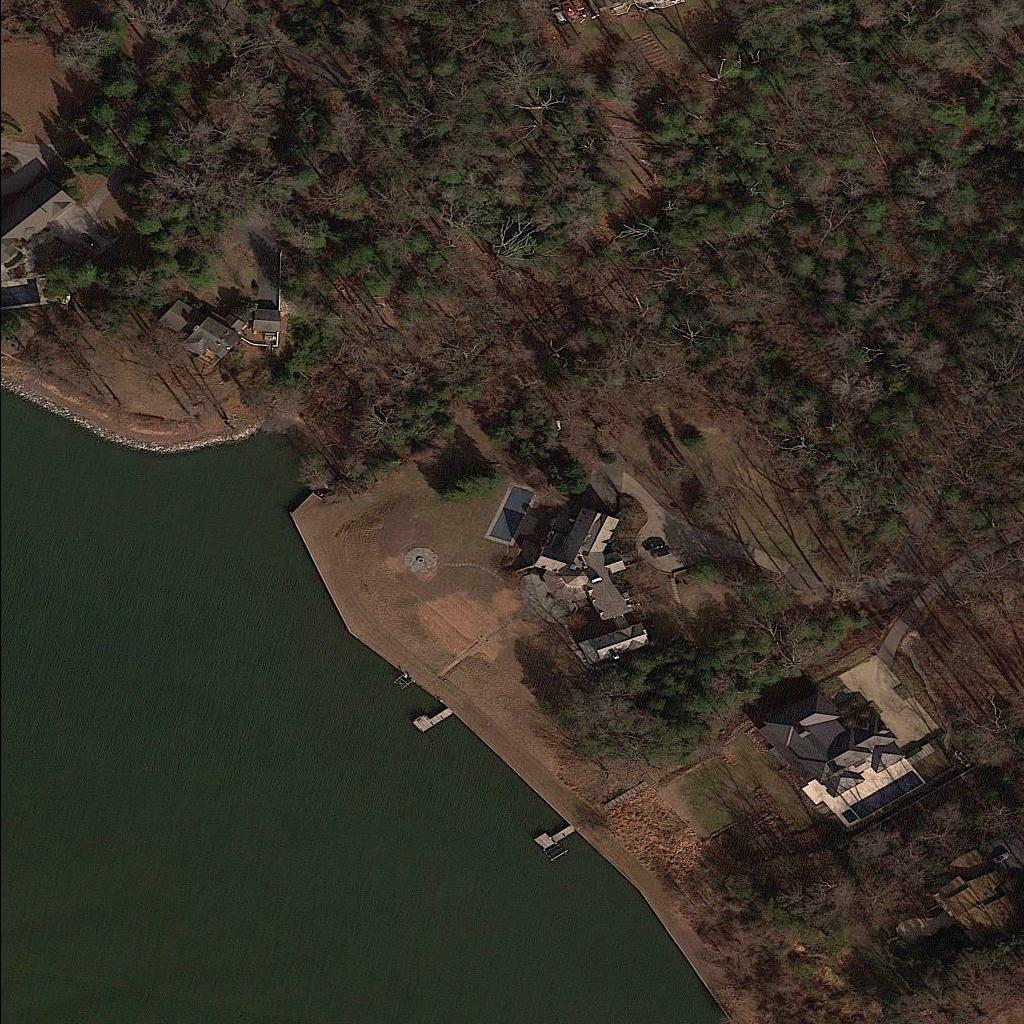harbor: (536, 818, 577, 851), (413, 702, 454, 734)
